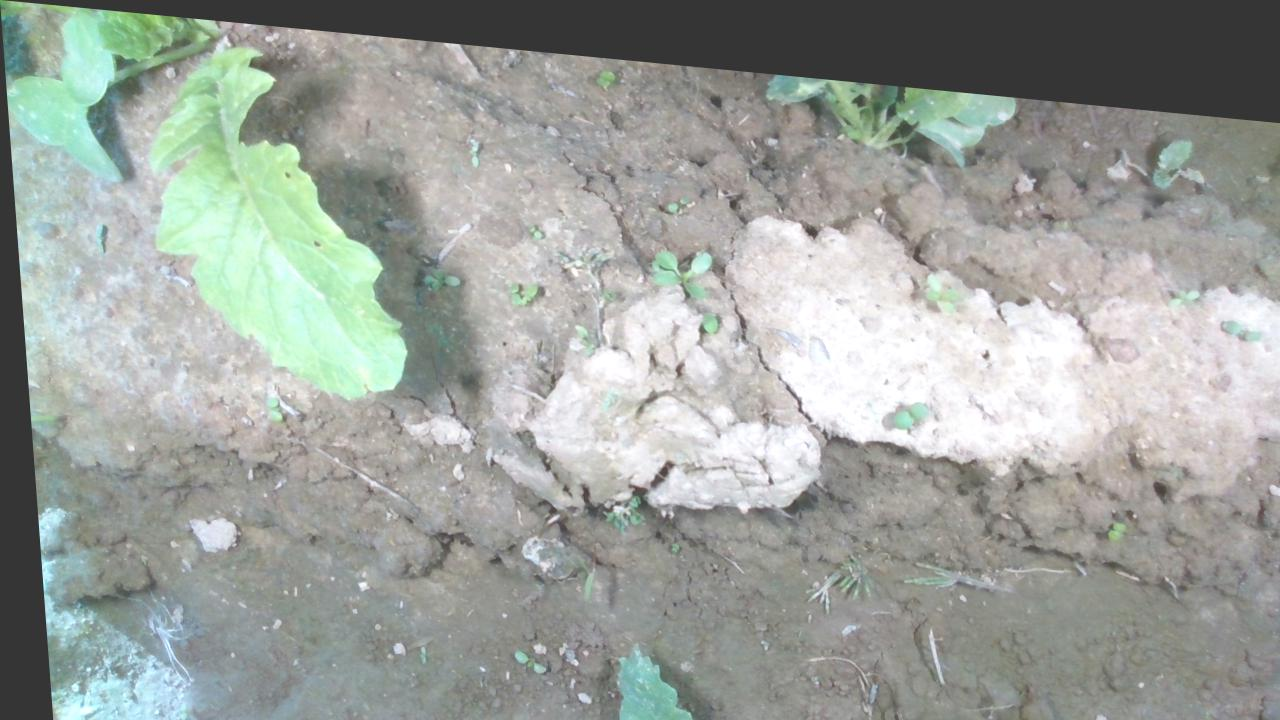weed: (915, 251, 961, 296), (880, 377, 926, 415), (414, 255, 460, 285), (1217, 291, 1259, 319), (1157, 260, 1199, 287), (502, 637, 537, 664), (659, 176, 691, 201), (257, 389, 278, 419), (592, 54, 616, 77), (463, 126, 479, 158), (1100, 497, 1119, 519), (524, 212, 542, 228), (408, 635, 418, 658)
